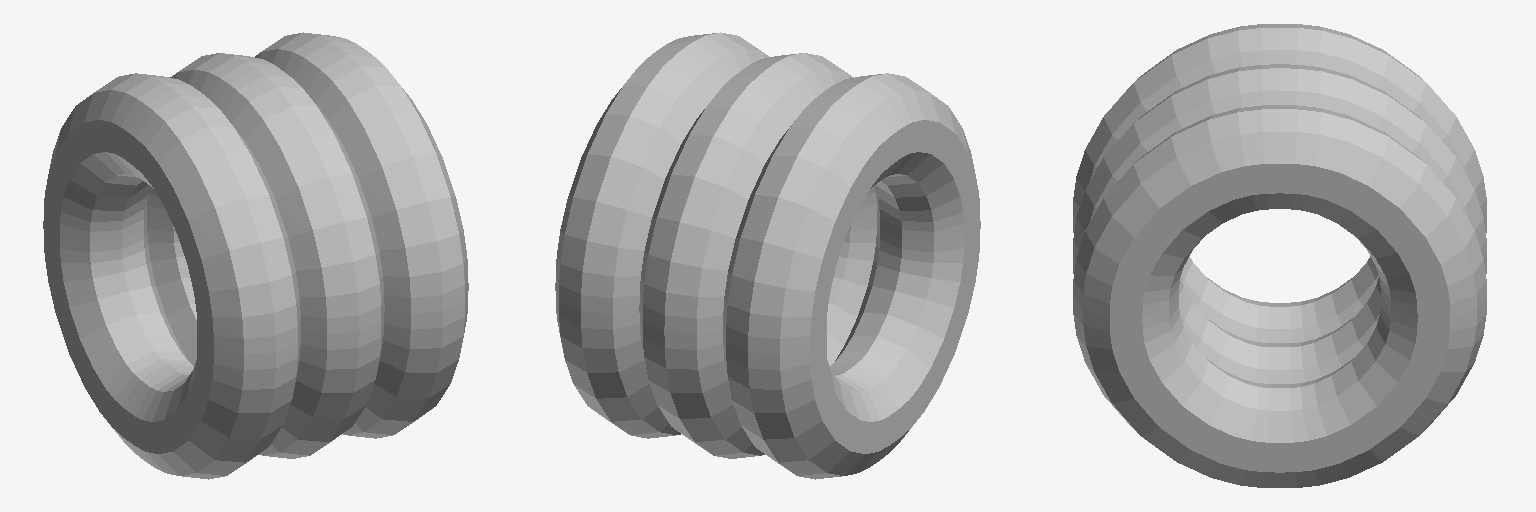
The model's file is YK_Charger_Coil.obj.
The picture shows the model from 3 angles: view 1: azimuth 30°, elevation 25°; view 2: azimuth 150°, elevation 25°; view 3: azimuth 270°, elevation 25°; orthographic projection.
Visible parts, largest first — view 1: NurbsCircle.000_NurbsCircle.004; view 2: NurbsCircle.000_NurbsCircle.004; view 3: NurbsCircle.000_NurbsCircle.004.
Boxes of the visible parts, box(x1,y1,x2,y2) form: NurbsCircle.000_NurbsCircle.004: box(43, 32, 468, 479); NurbsCircle.000_NurbsCircle.004: box(555, 32, 980, 479); NurbsCircle.000_NurbsCircle.004: box(1073, 24, 1486, 487).
Bounding box in the file's own units: 0.6092 × 0.8581 × 0.8581.